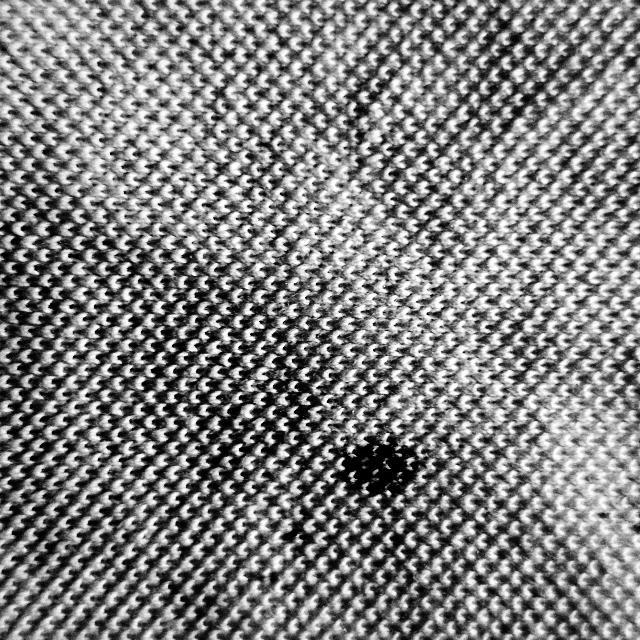Color_defect: (331, 429, 427, 508)
